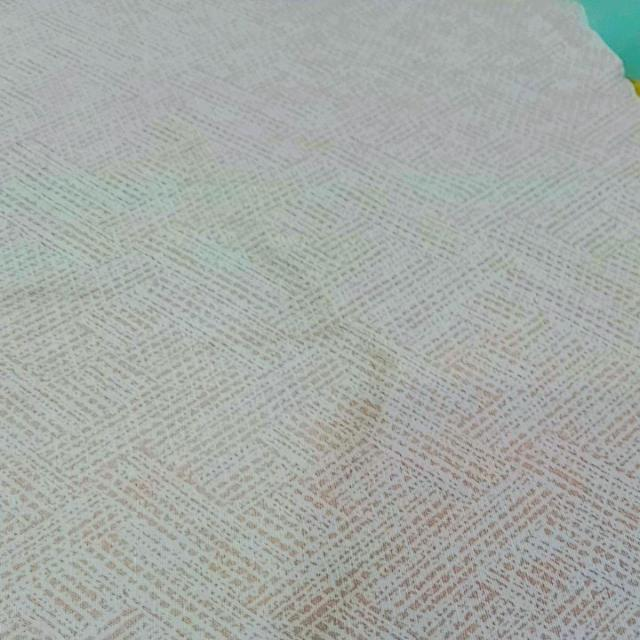stain: (275, 316, 408, 507)
